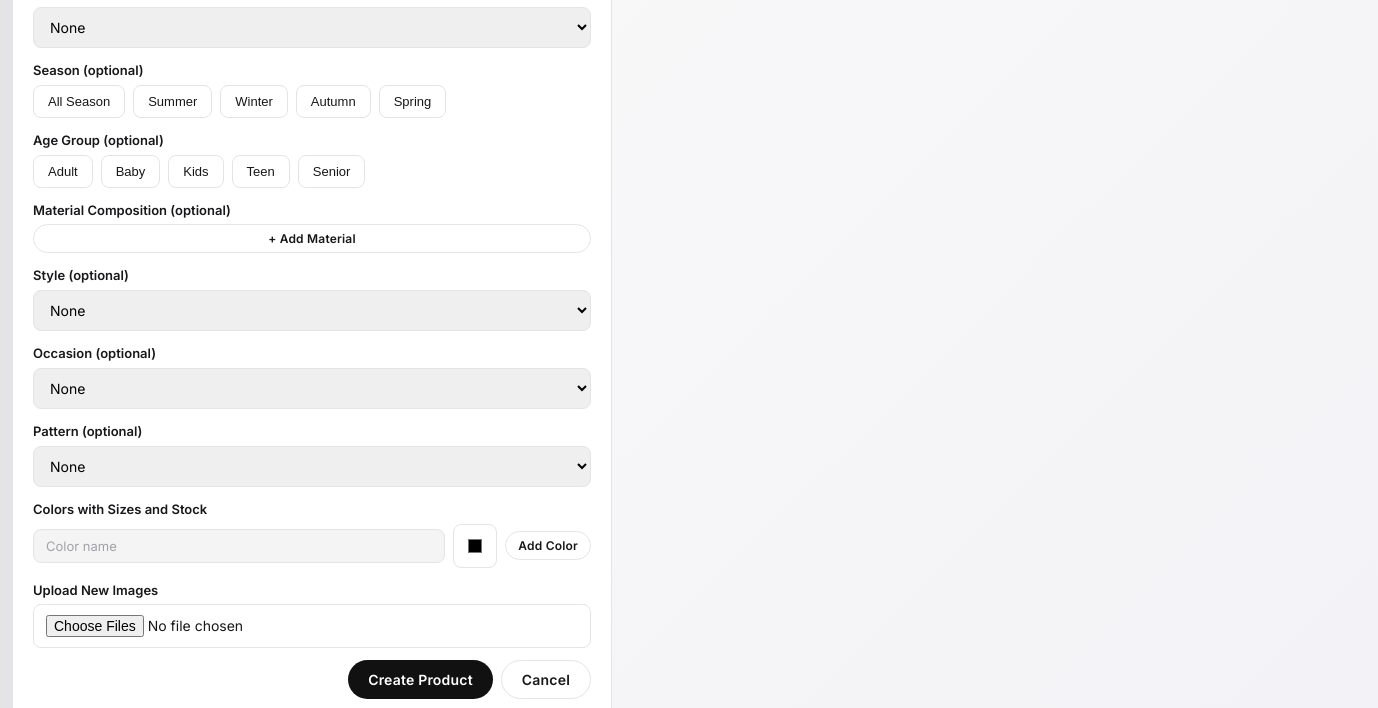
Test case: AdminProductForm › Create Mode - Validation › should show error when name is empty
(page scrolled)
Click the button "Create Product" at [420, 680], box 348,660 -> 493,699
(page scrolled)
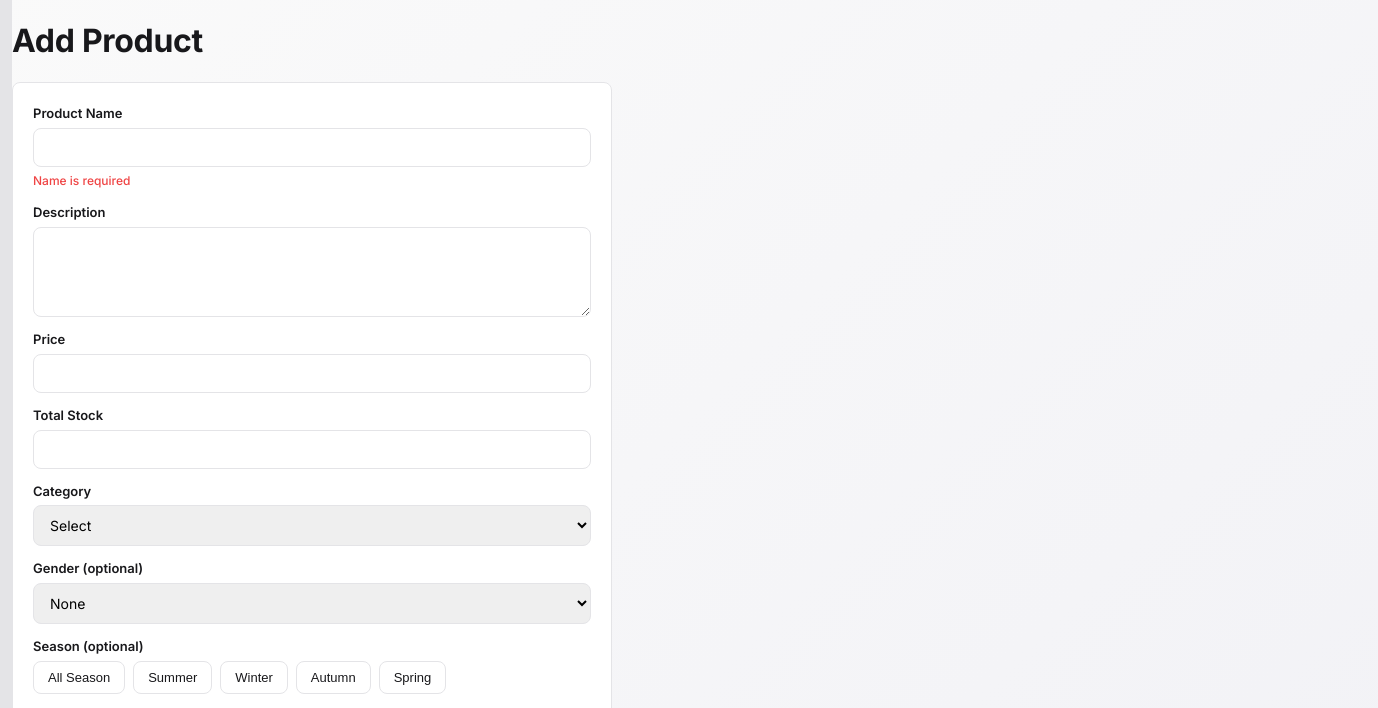
Now the text "Name is required" is shown, box 33,173 -> 130,188
